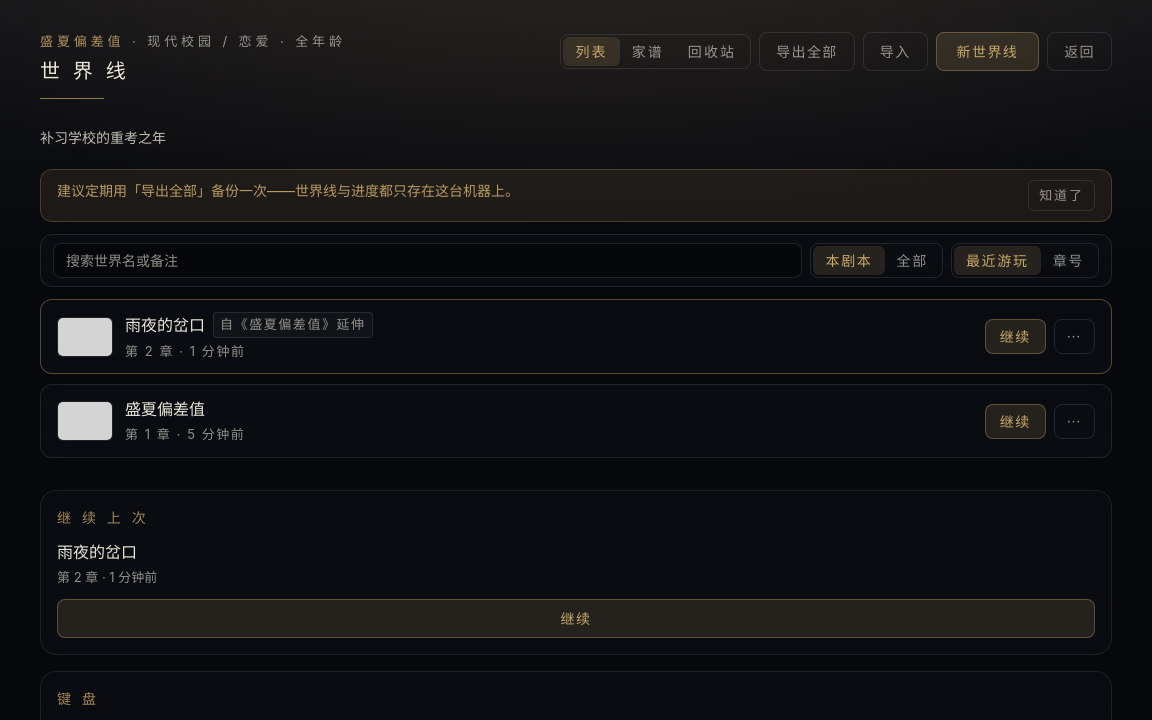
Test: WorldsScreen：改名 / 导出 / 导入（v1.6） › 导出：⋯ 菜单里的下载链接指向 /api/worlds/export 并带 <worldId>.world.json 文件名
The image size is (1152, 720).
Step 1. Press the mouse on the button with test id "world-menu-campus-summer-1" → [1074, 421], box left=1054, top=404, right=1095, bottom=439
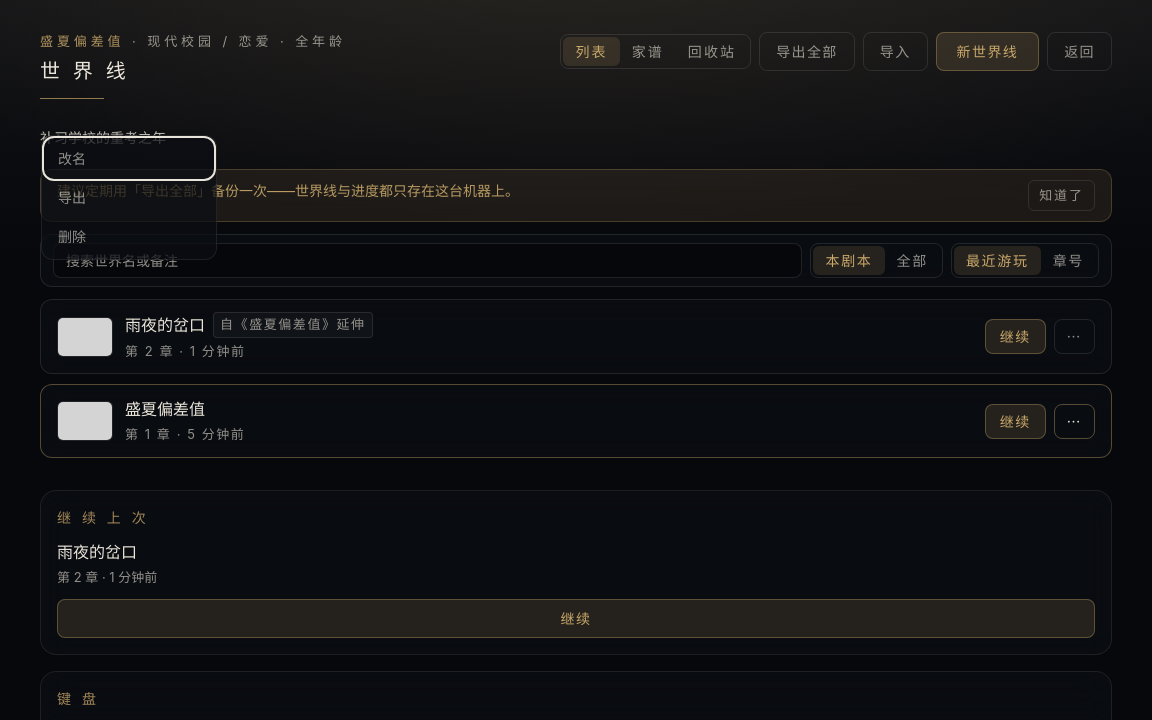
Step 2. Press the mouse on the button with test id "world-menu-campus-summer-2" → [1074, 337], box left=1054, top=319, right=1095, bottom=354
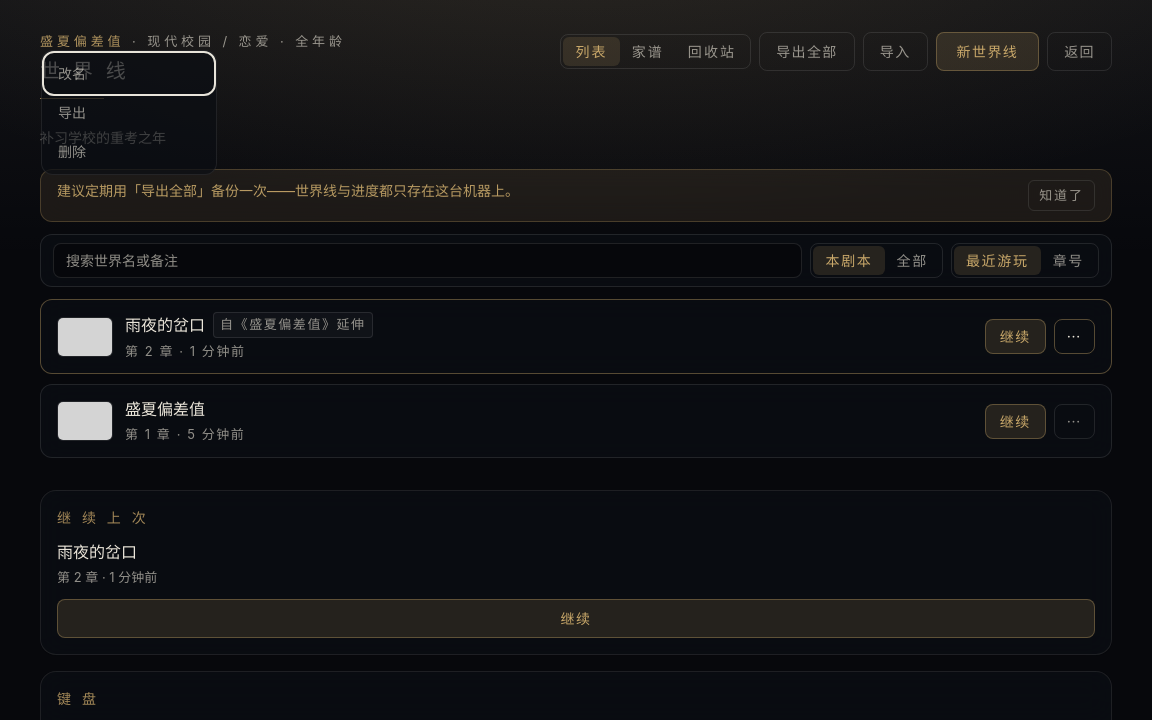
Expected: the menu item with test id "world-export-campus-summer-1" is gone
